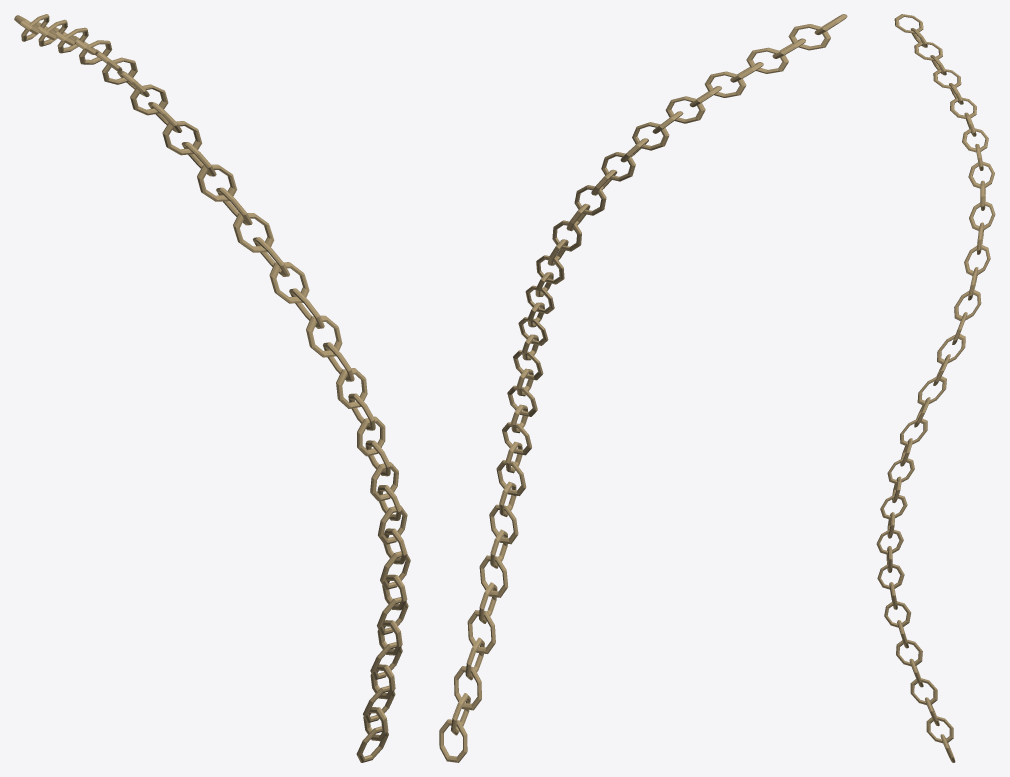
Rendered from ketju.fbx.
3 views of the same model, side by side, from view 1: azimuth 30°, elevation 25°; view 2: azimuth 150°, elevation 25°; view 3: azimuth 270°, elevation 25° (orthographic). The views are drawn at different scales.
Parts seen in each view (by area): view 1: Circle.002; view 2: Circle.002; view 3: Circle.002.
Boxes of the visible parts, box(x1,y1,x2,y2) form: Circle.002: box(14, 14, 410, 762); Circle.002: box(439, 14, 847, 762); Circle.002: box(876, 14, 995, 762).
Size of the model in its own units: 448 by 918 by 161.
